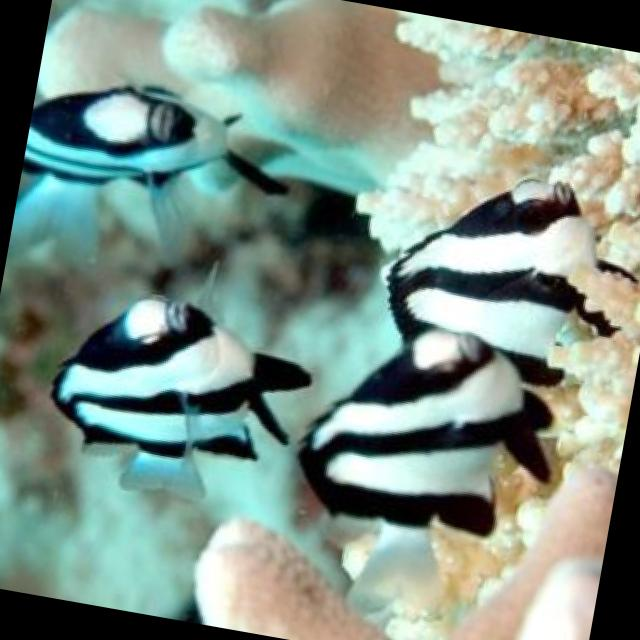ThreeStripedDamselfish: (273, 307, 573, 640), (34, 275, 322, 524), (376, 156, 638, 382), (17, 60, 307, 244)
